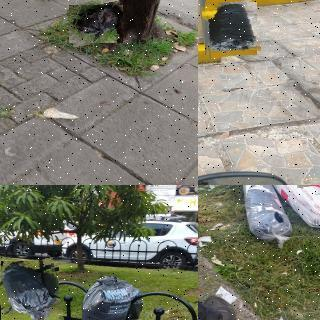Garbage: (0, 259, 61, 320), (78, 272, 147, 320), (203, 0, 259, 57), (68, 3, 125, 45)
